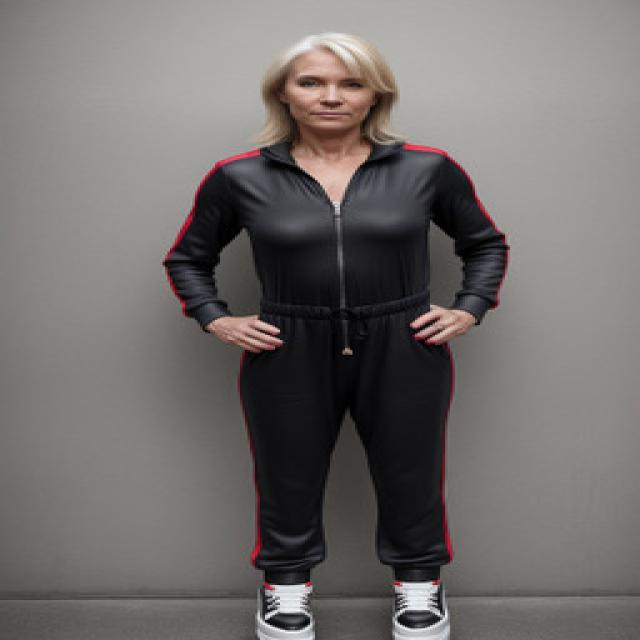Ai human 2: (153, 26, 523, 640)
